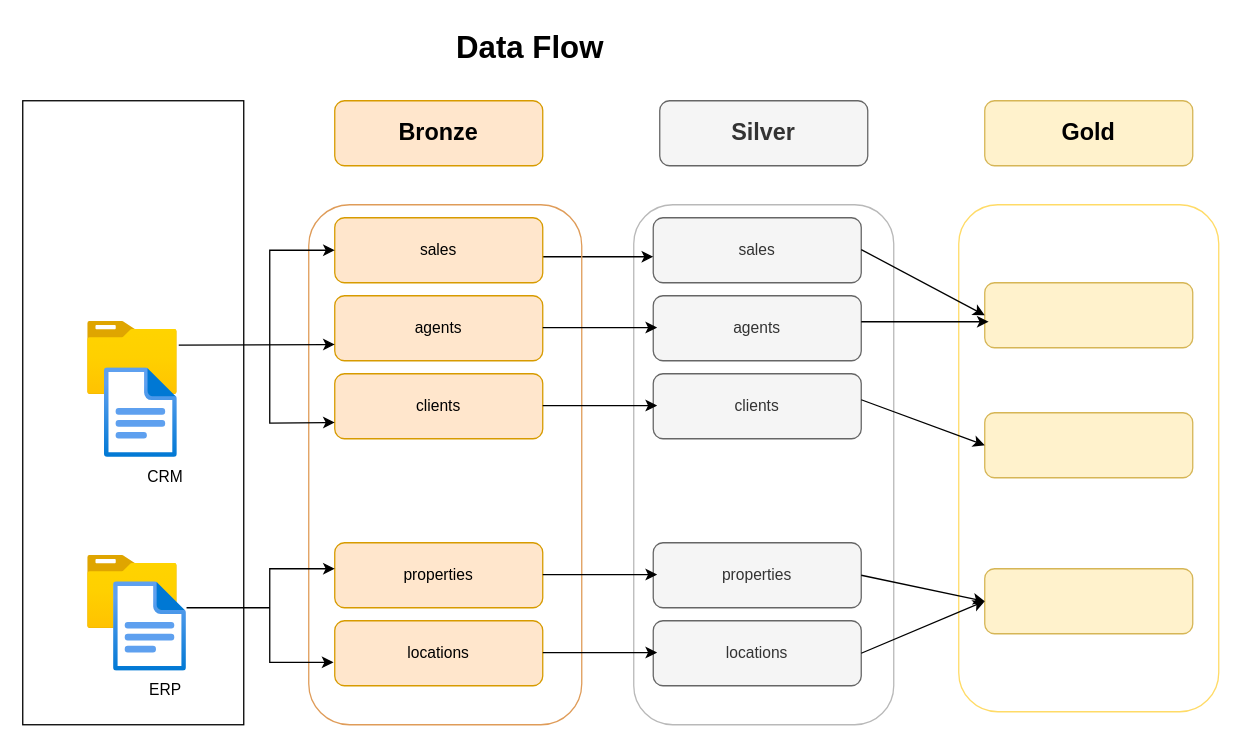
Some shapes in this 1242 by 748 pixel diagram are drawn without their labels. The shapes that lost their labels are listed below. From the top down, each one's box as (x1, y1, x2, y2) in pixels, then its label:
(983, 281, 1193, 348): fact_sales
(983, 411, 1193, 478): dim_clients
(983, 567, 1193, 634): dim_properties
